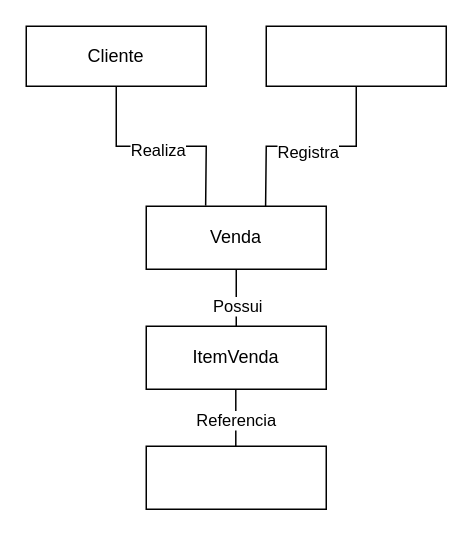
Some shapes in this 473 by 536 pixel diagram are drawn without their labels. The shapes that lost their labels are listed below. From the top down, each one's box as (x1, y1, x2, y2) in pixels, then its label:
(265, 25, 446, 86): Usuário
(145, 445, 326, 509): Produto
